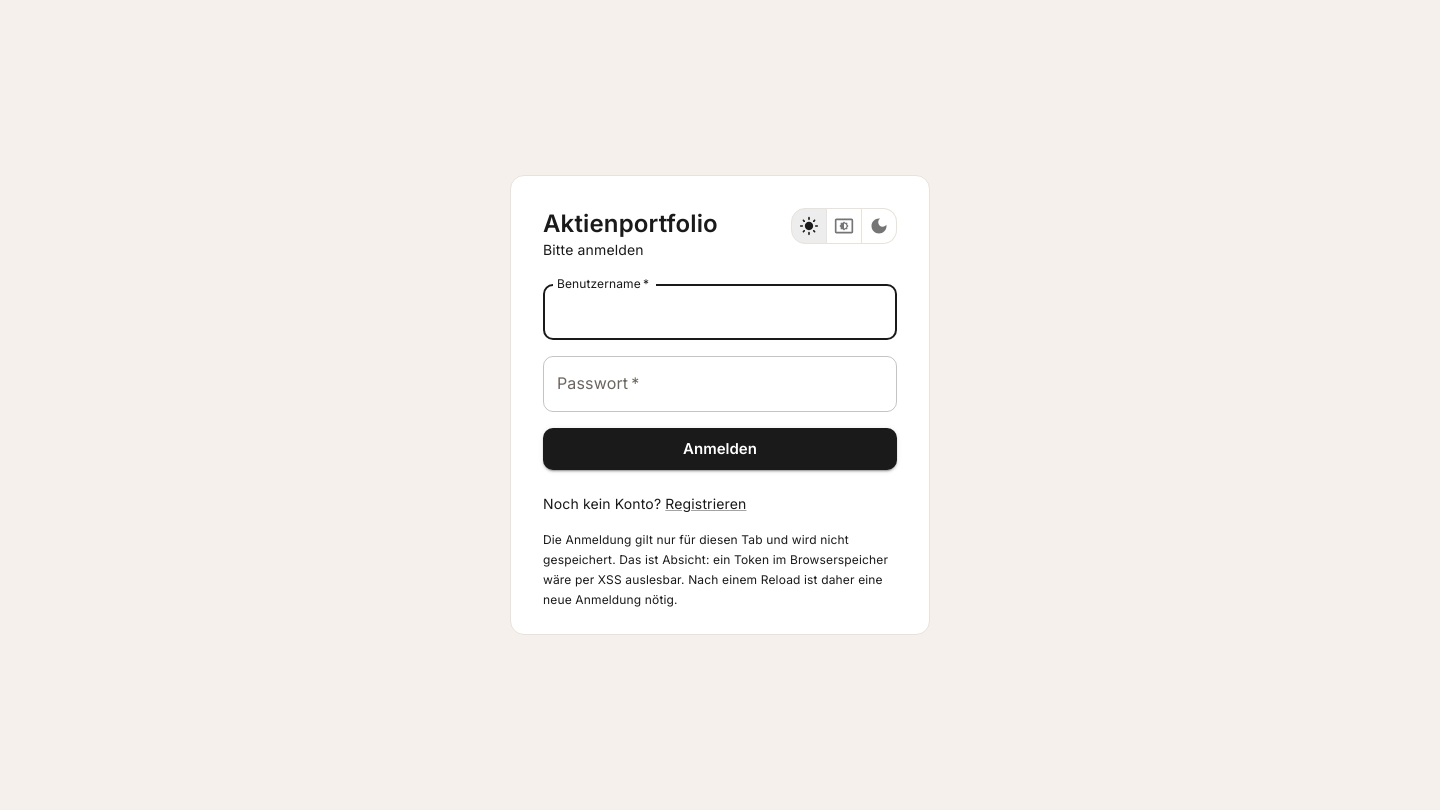
Scenario: Konten-Seite › summiert Cash je Währung und rechnet bewusst nicht um
In the field labelled "Benutzername *": (720, 312) x1=543 y1=284 x2=897 y2=340, type "demo"
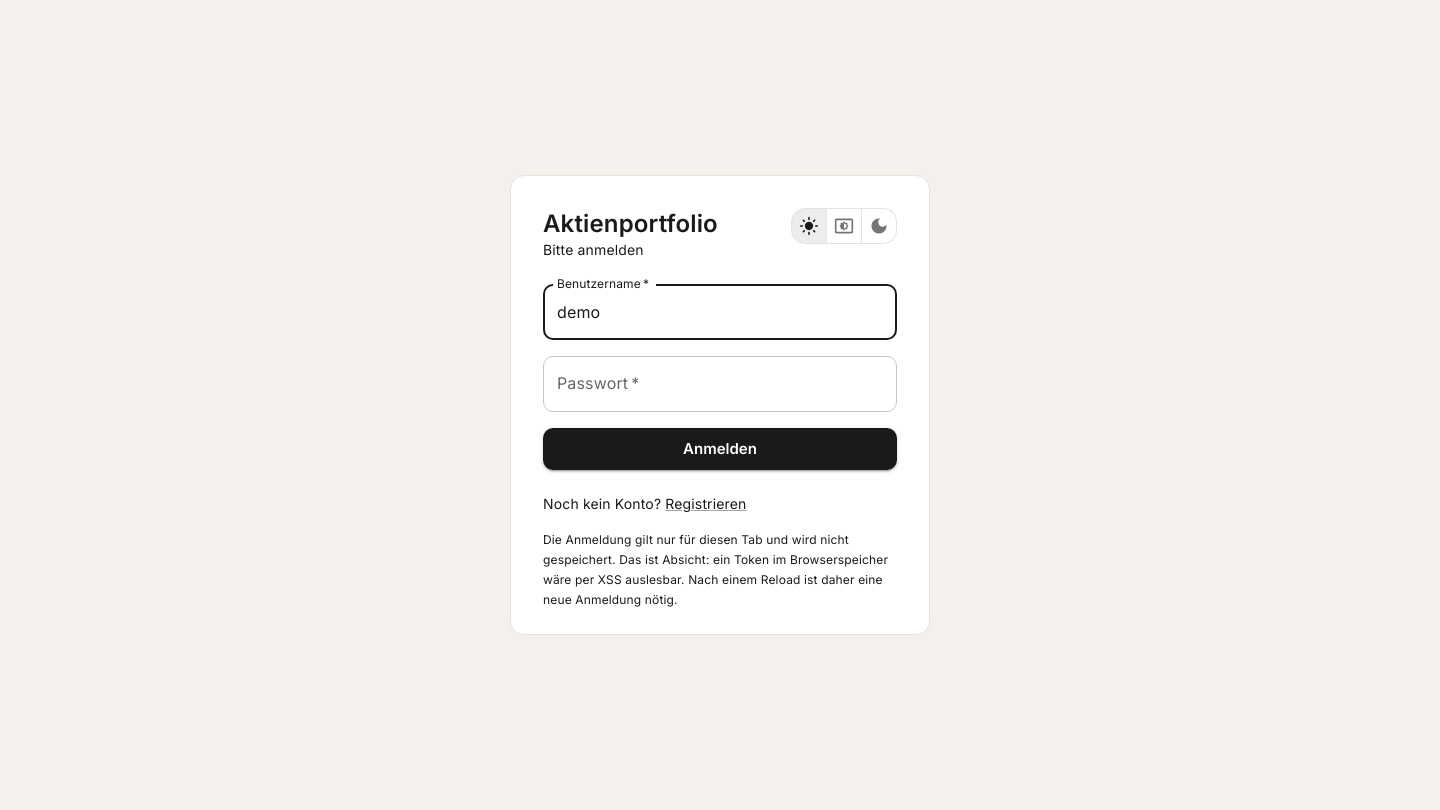
In the password field labelled "Passwort *": (720, 384) x1=543 y1=356 x2=897 y2=412, type "demo1234"
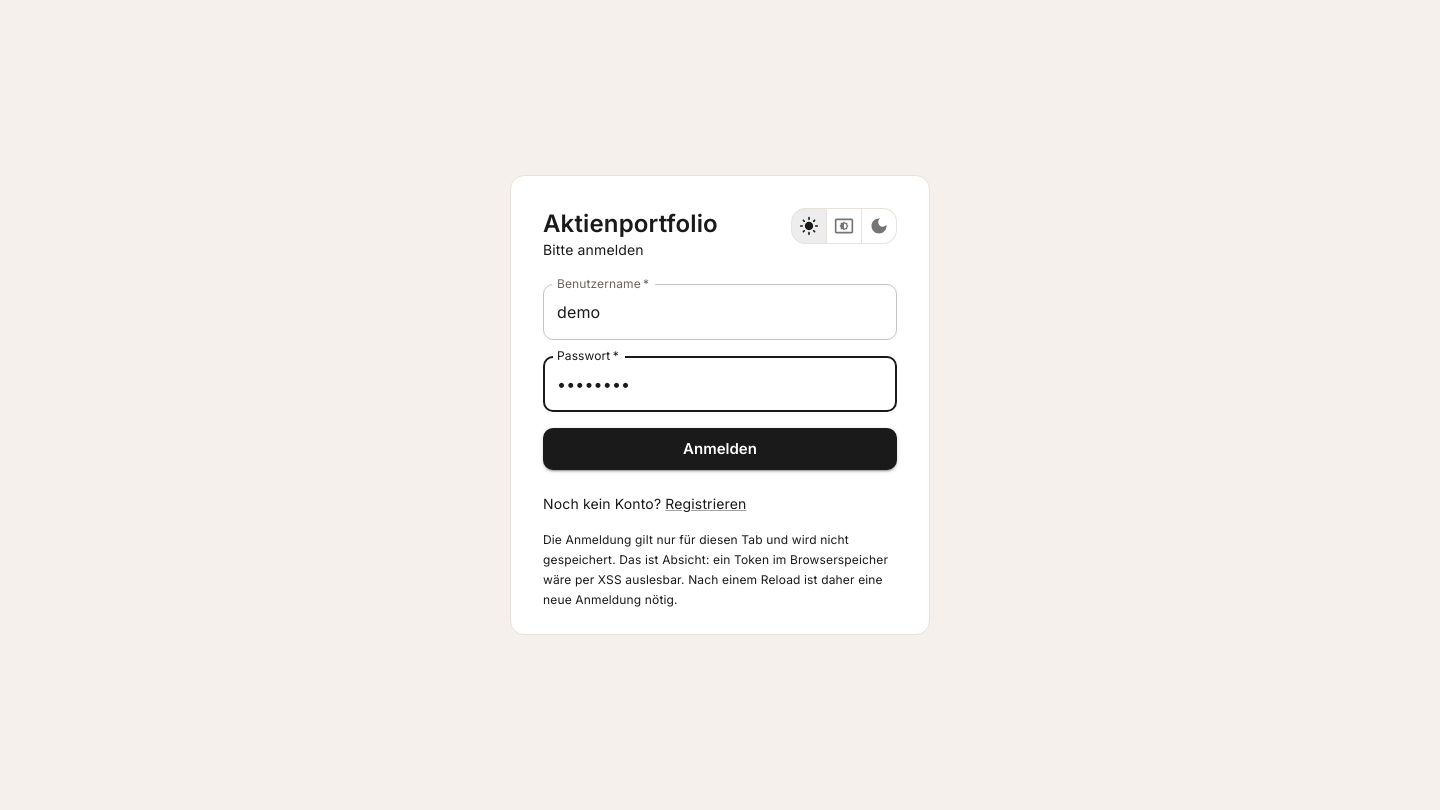
Click the button "Anmelden": click(720, 449) x1=543 y1=428 x2=897 y2=470
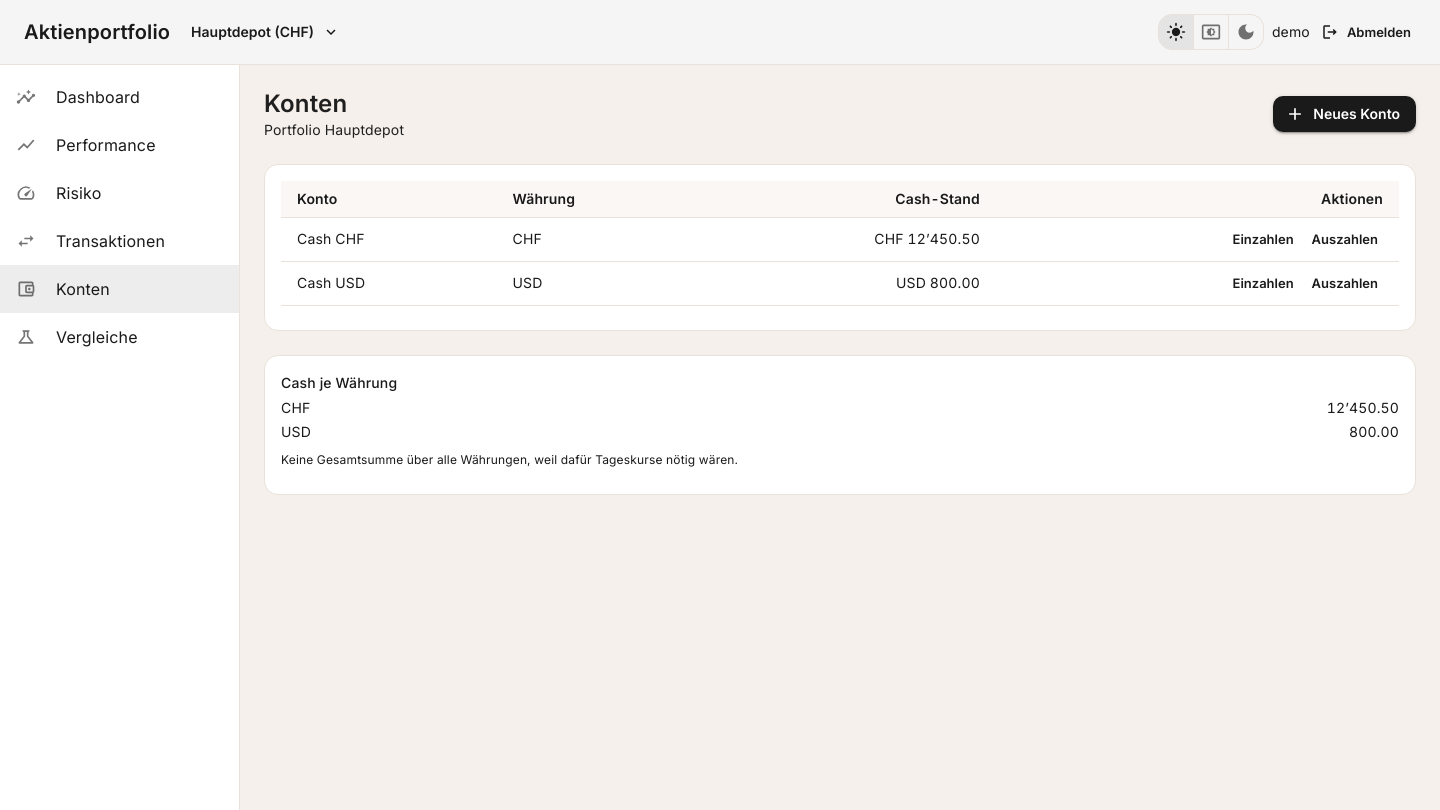
Check: the button "Abmelden" is shown, box x1=1318 y1=17 x2=1416 y2=47
Check: the table named "Konten" is shown, box x1=281 y1=181 x2=1399 y2=306
Check: the heading "Cash je Währung" is shown, box x1=281 y1=374 x2=397 y2=390
